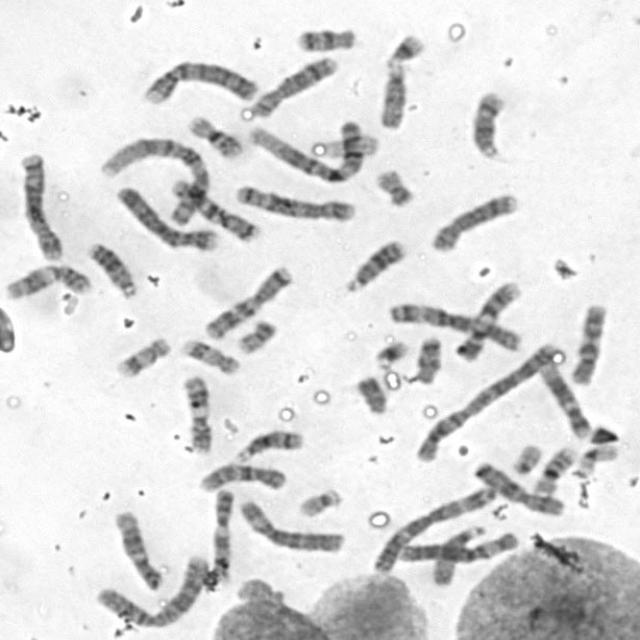A1: (94, 132, 212, 226), (244, 113, 368, 185)
A2: (412, 336, 565, 464), (90, 550, 212, 630)
A3: (368, 480, 499, 576), (384, 297, 526, 352)
B4: (112, 180, 221, 252), (138, 54, 262, 106)
B5: (14, 146, 66, 262), (229, 178, 359, 223)
C10: (564, 298, 610, 387), (194, 458, 290, 494)
C11: (1, 258, 96, 300), (177, 370, 216, 456)
C12: (109, 505, 167, 592), (536, 355, 595, 440)
C6: (233, 494, 348, 555), (392, 526, 523, 565)
C7: (199, 260, 295, 341), (166, 173, 264, 243)
C8: (246, 50, 342, 120), (425, 188, 522, 254)
C9: (452, 276, 526, 364), (201, 483, 237, 588)
D13: (340, 234, 410, 294), (83, 236, 141, 300)
D14: (466, 86, 509, 160), (230, 424, 306, 464)
D15: (428, 518, 490, 589), (374, 58, 410, 131)
E16: (183, 110, 246, 160), (528, 442, 580, 497)
E17: (109, 331, 173, 379), (176, 333, 243, 377)
E18: (292, 22, 359, 53), (410, 330, 445, 386)
F19: (570, 439, 620, 478), (321, 129, 382, 159)
F20: (371, 163, 417, 208), (232, 314, 280, 355)
G21: (381, 28, 428, 68), (369, 334, 412, 370)
G22: (293, 482, 346, 518), (507, 439, 544, 476)
X: (470, 457, 567, 518)
Y: (350, 370, 391, 416)
